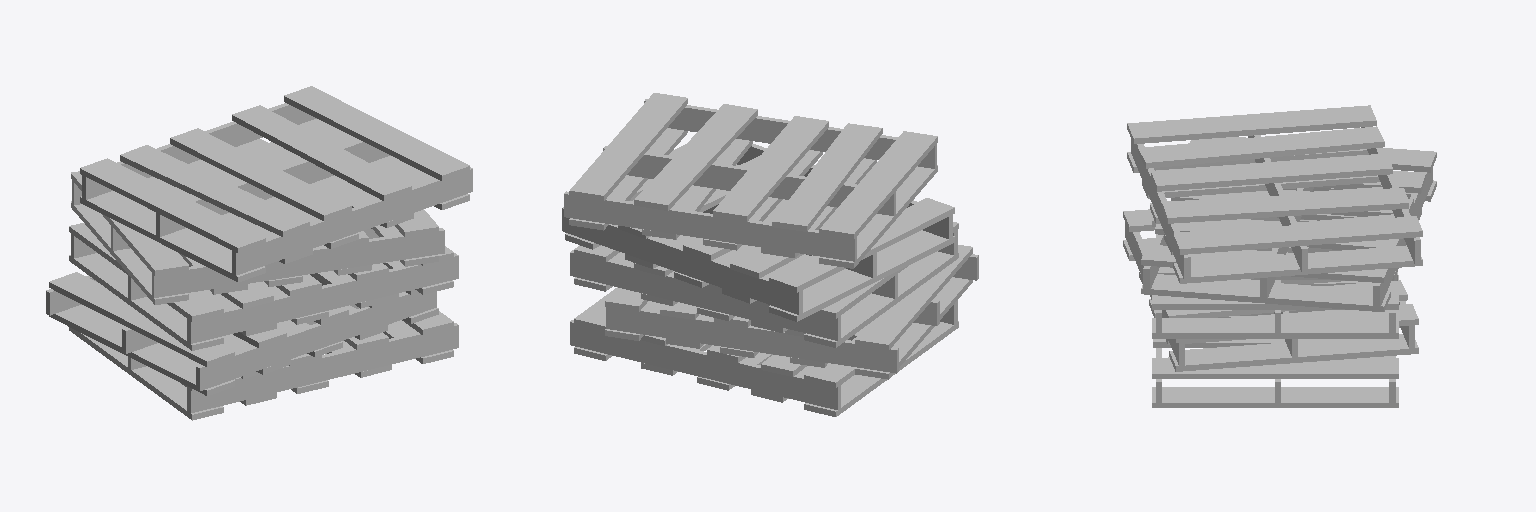
Rendered from Paletes_Stacked.obj.
3 views of the same model, side by side, from view 1: azimuth 30°, elevation 25°; view 2: azimuth 150°, elevation 25°; view 3: azimuth 270°, elevation 25° (orthographic).
Parts seen in each view (by area): view 1: Palet_stack; view 2: Palet_stack; view 3: Palet_stack.
Boxes of the visible parts, x1,y1,x2,y2 form: Palet_stack: [46, 86, 472, 420]; Palet_stack: [562, 93, 978, 416]; Palet_stack: [1123, 105, 1436, 407].
Size of the model in its own units: 2.21 by 1.08 by 1.77.